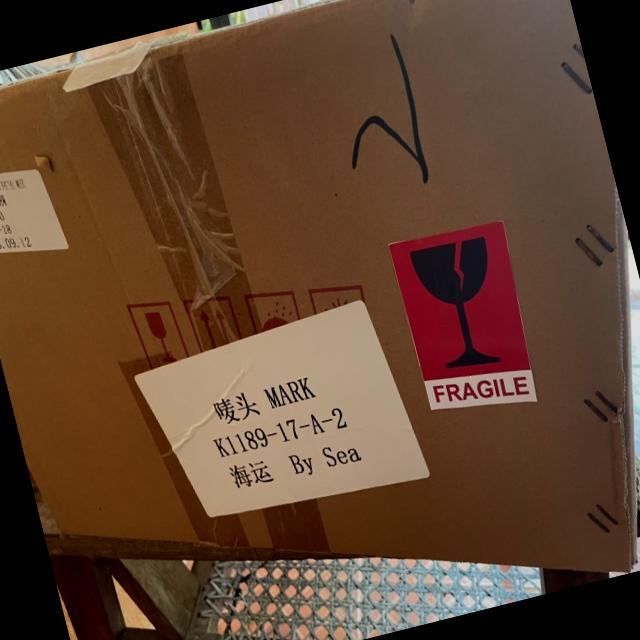carton_box: (0, 0, 640, 640)
export_mark_label: (121, 286, 443, 566)
fragile_label: (369, 194, 555, 436), (122, 286, 193, 374)
package_damage: (605, 440, 640, 571)
this_side_up_label: (184, 291, 245, 358)
